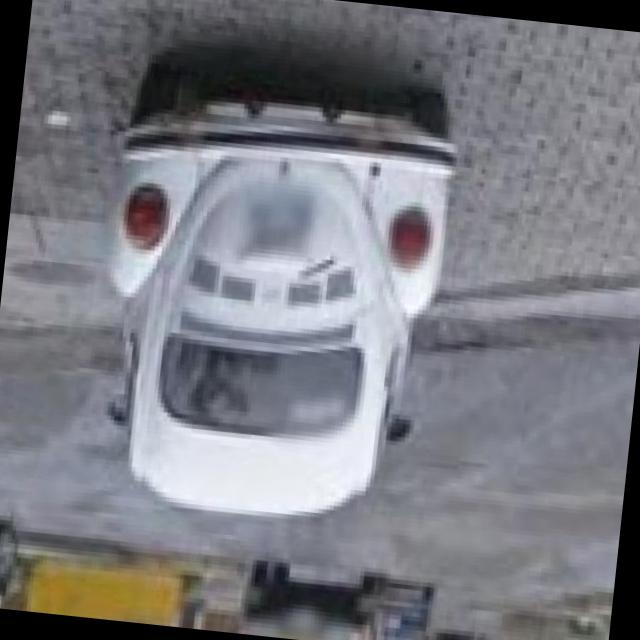car: (72, 43, 458, 530)
